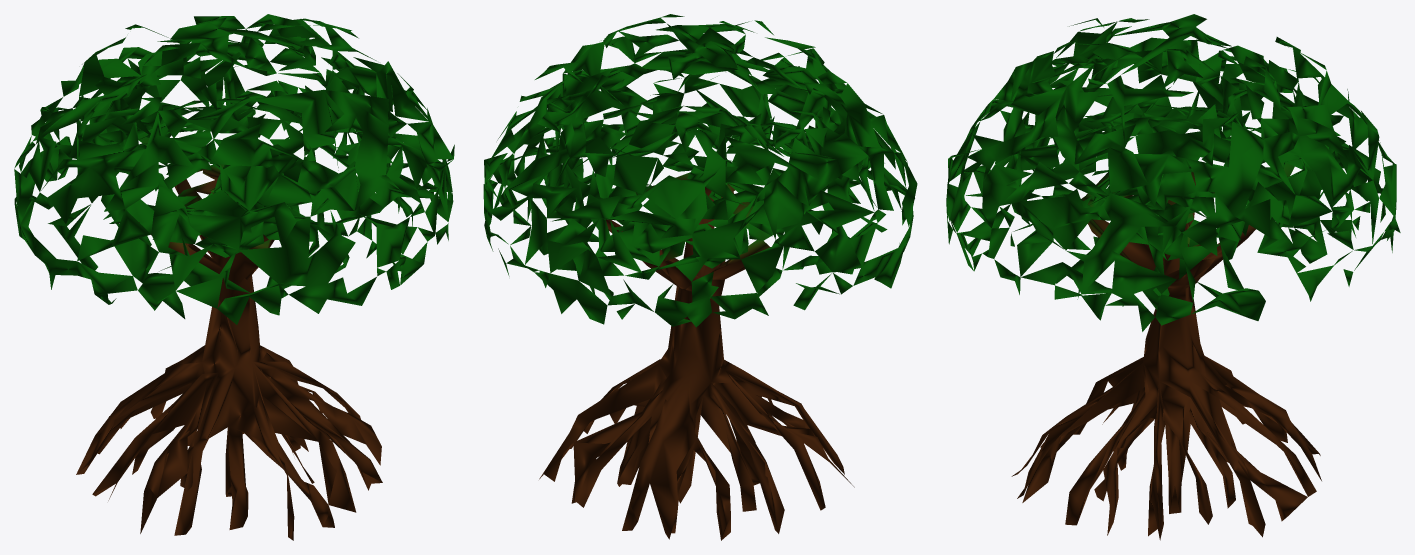
File: gen3d-mangrove-tree-lod0.glb
The picture shows the model from 3 angles, left to right: view 1: azimuth 30°, elevation 25°; view 2: azimuth 150°, elevation 25°; view 3: azimuth 270°, elevation 25°; orthographic projection. The views are drawn at different scales.
Visible parts, largest first — view 1: part_0; view 2: part_0; view 3: part_0.
Part boxes in pixels (x1,y1,x2,y2): part_0: [14, 14, 454, 540]; part_0: [483, 14, 917, 540]; part_0: [946, 14, 1400, 540].
Size of the model in its own units: 0.9056 by 0.9999 by 0.8951.
